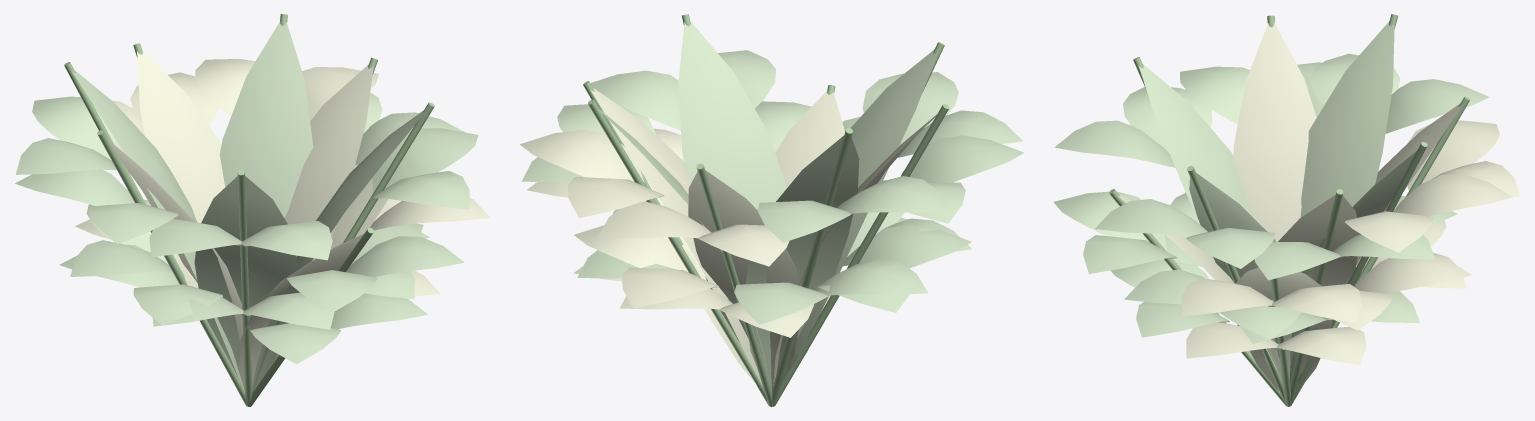
File: SM_WLA_Herb_A.fbx
3 renders of one model, left to right at view 1: azimuth 30°, elevation 25°; view 2: azimuth 150°, elevation 25°; view 3: azimuth 270°, elevation 25°, orthographic. The views are drawn at different scales.
Parts seen in each view (by area): view 1: SM_WLA_Herb_A; view 2: SM_WLA_Herb_A; view 3: SM_WLA_Herb_A.
Boxes of the visible parts, x1,y1,x2,y2 form: SM_WLA_Herb_A: (15,14,490,406); SM_WLA_Herb_A: (520,14,1023,406); SM_WLA_Herb_A: (1054,14,1520,406).
Size of the model in its own units: 0.7771 by 0.7793 by 0.607.
